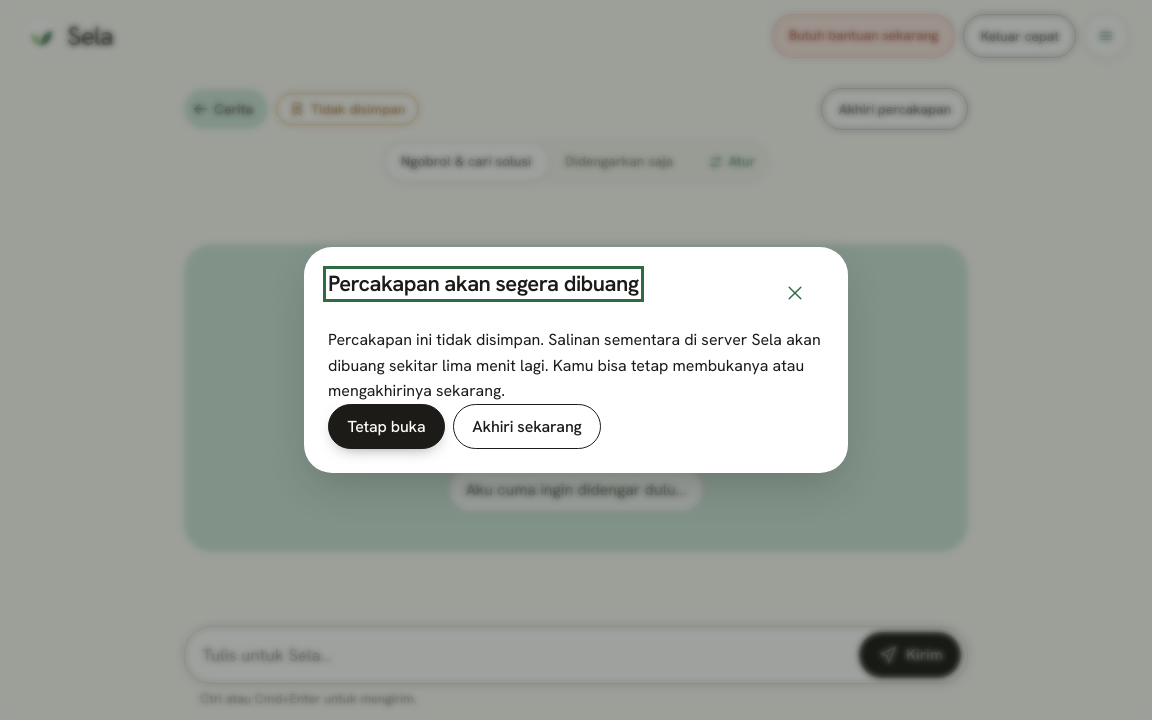
home, notes and conversations › ends the room from the hold warning
This screenshot has width=1152, height=720.
Click the button "Akhiri sekarang" at (527,426), box left=453, top=404, right=601, bottom=449
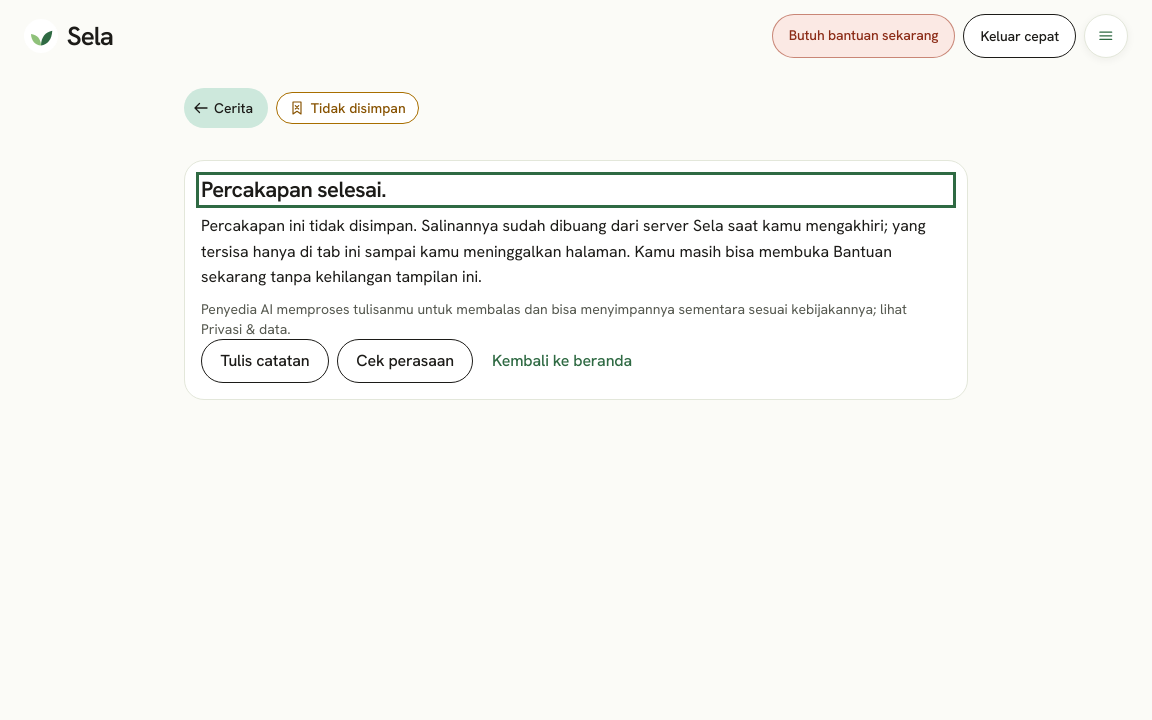
Check: the heading "Percakapan selesai." is shown, box left=201, top=175, right=386, bottom=204
